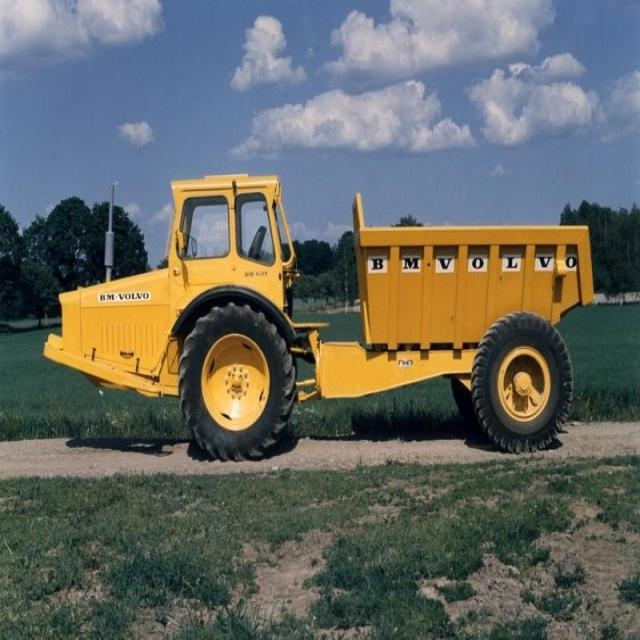dump_truck: (46, 159, 598, 450)
